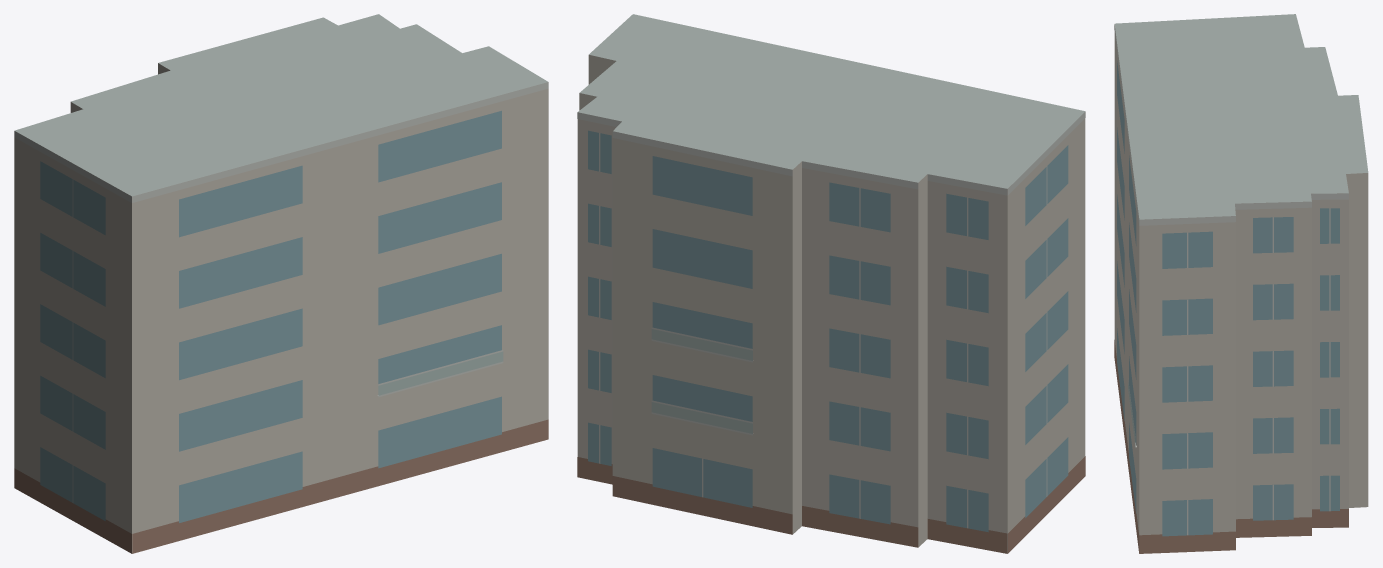
File: survey-upis-32721345.glb
3 views of the same model, side by side, from view 1: azimuth 30°, elevation 25°; view 2: azimuth 150°, elevation 25°; view 3: azimuth 270°, elevation 25° (orthographic). The views are drawn at different scales.
Visible parts, largest first — view 1: survey-upis-32721345.tmp; view 2: survey-upis-32721345.tmp; view 3: survey-upis-32721345.tmp.
Boxes of the visible parts, x1=… form: survey-upis-32721345.tmp: x1=14, y1=14, x2=548, y2=553; survey-upis-32721345.tmp: x1=577, y1=14, x2=1085, y2=553; survey-upis-32721345.tmp: x1=1114, y1=14, x2=1368, y2=553.
Bounding box in the file's own units: 17.43 × 13.2 × 9.1.
